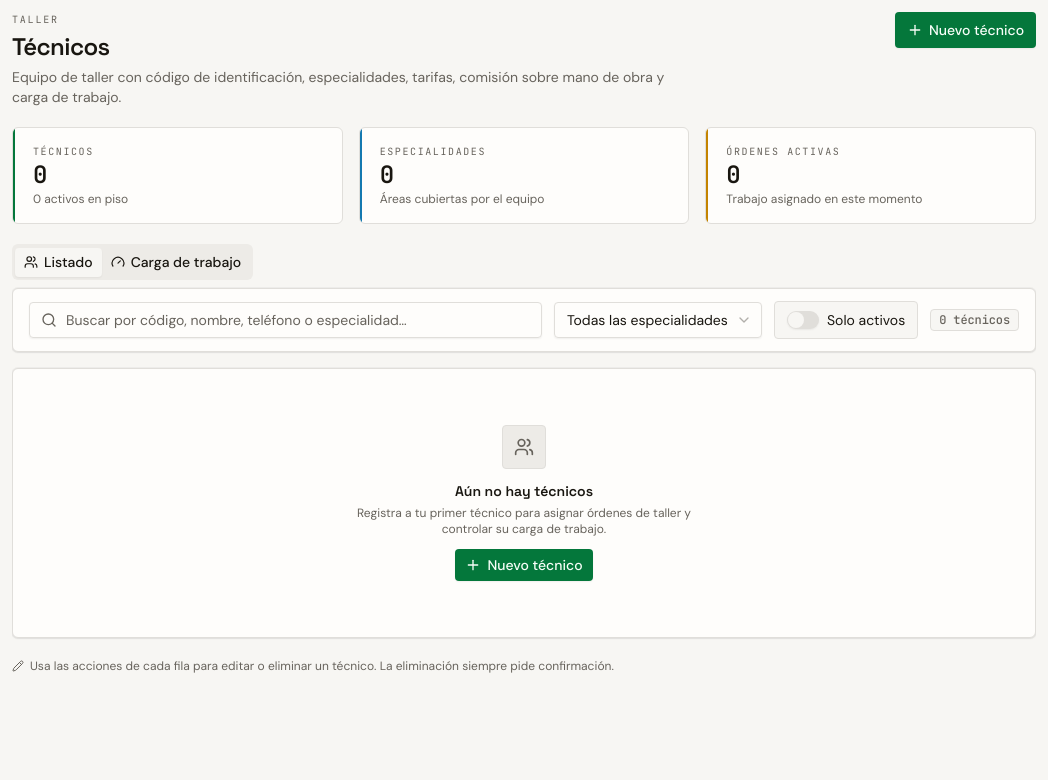
Test: TechniciansPage › renders an empty workload state when there is no workload
Expected: the element with test id "technicians.empty_state" is shown, [12,368,1036,638]
Click the tab with test id "technicians.tab.workload": (176, 262) [102,248,250,276]
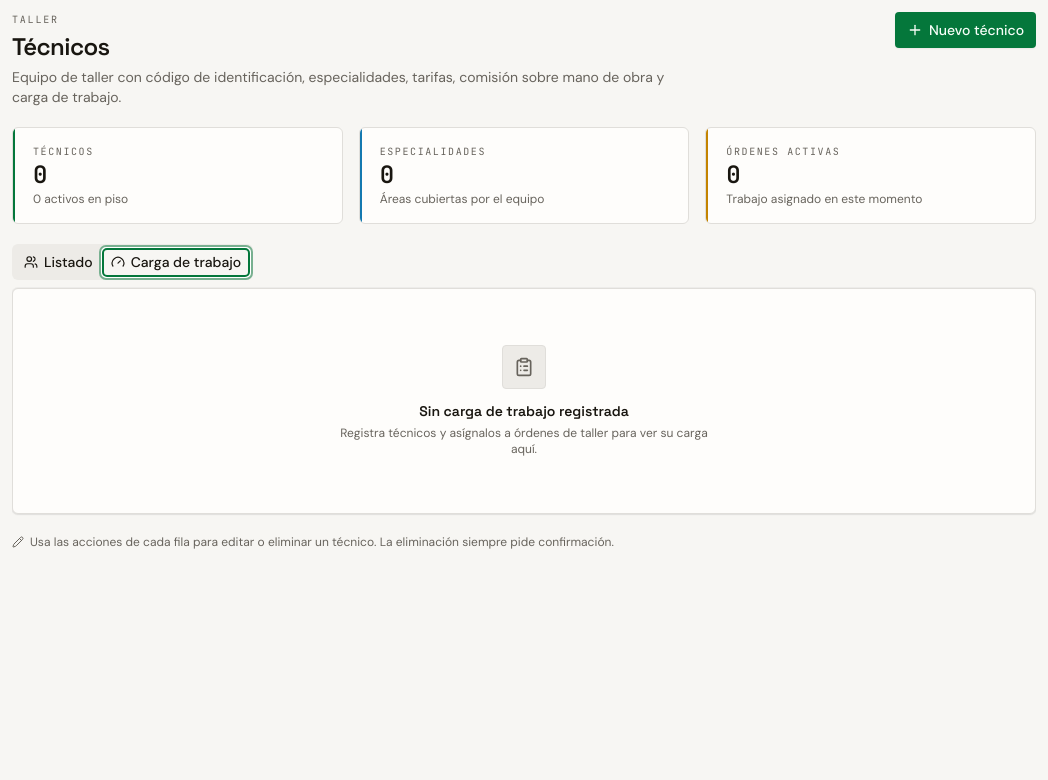
Expected: the element with test id "technicians.workload.empty_state" is shown, [12,288,1036,514]
